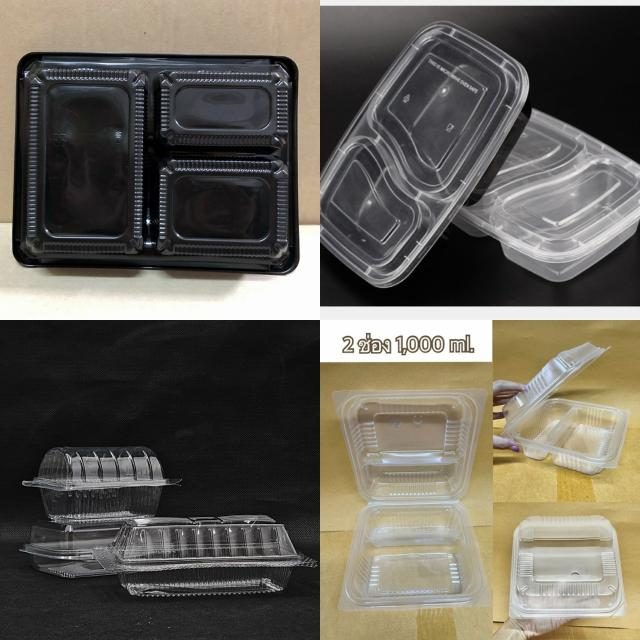Single-Use-Plastic: (12, 52, 299, 273), (321, 21, 529, 288), (332, 389, 491, 611), (455, 110, 640, 281), (96, 516, 315, 596), (502, 342, 630, 475), (22, 446, 179, 524), (510, 515, 625, 618), (21, 520, 122, 578)
